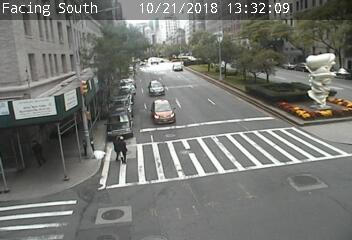car: (151, 100, 174, 124), (148, 80, 163, 96), (173, 64, 182, 72)
